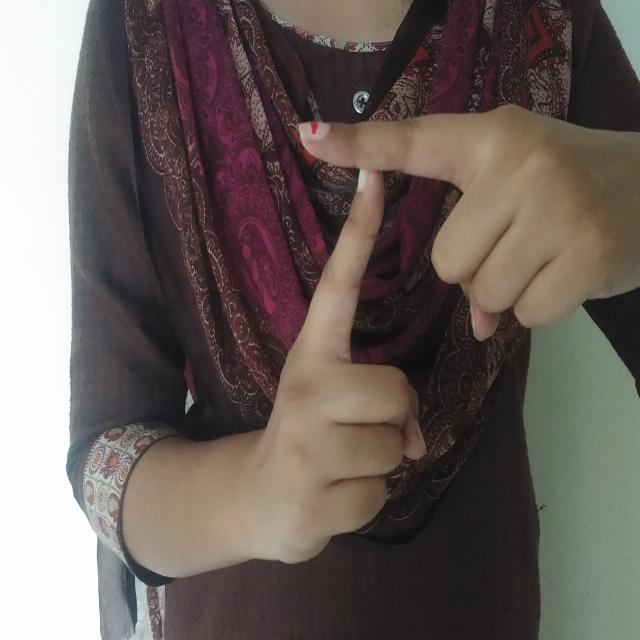T: (243, 96, 640, 580)
